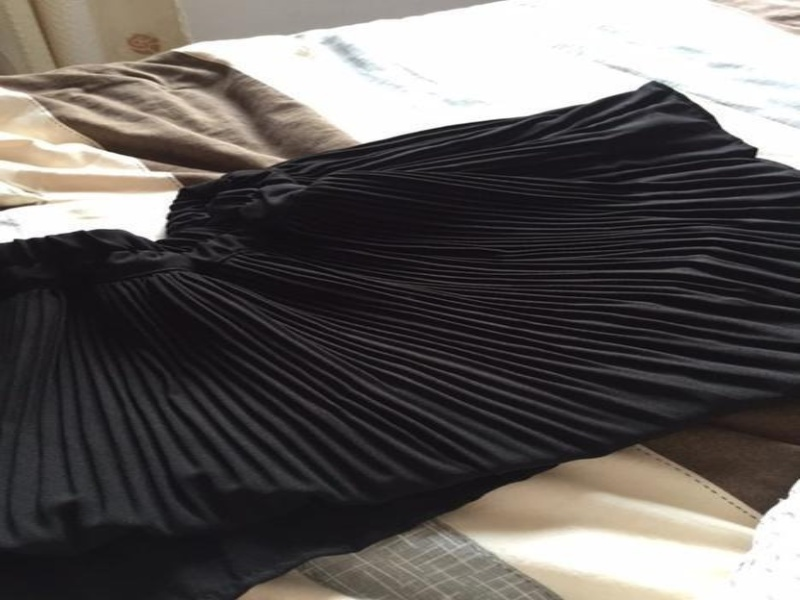skirt: (0, 80, 798, 599)
